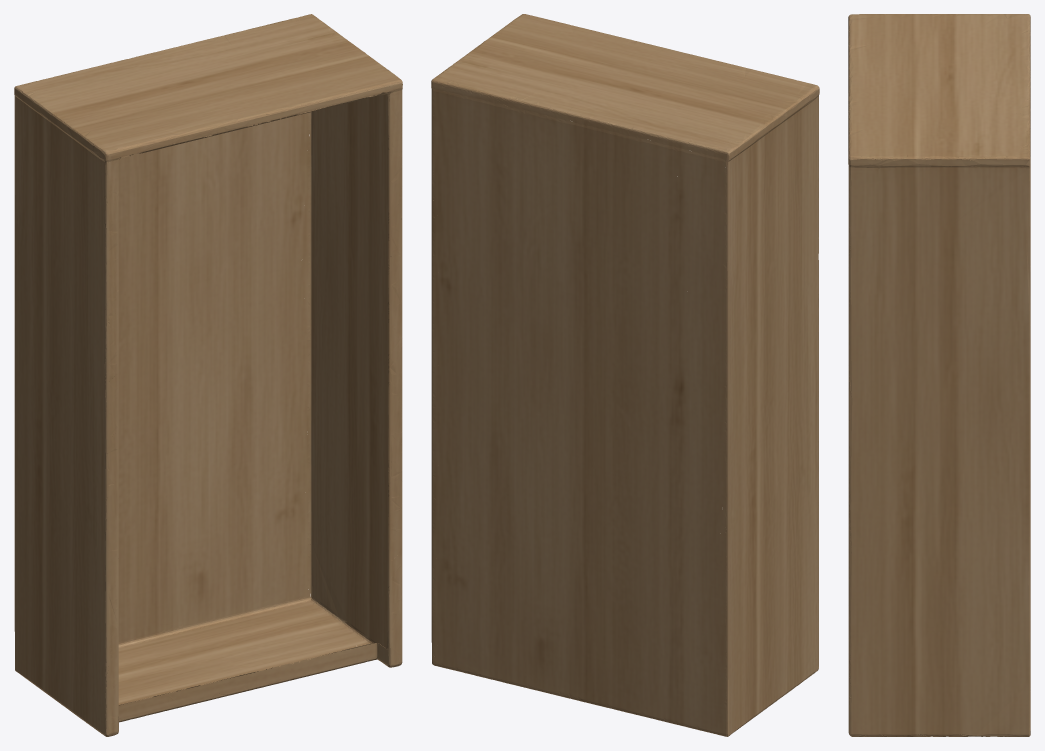
Rendered from wardrobe-body.glb.
3 renders of one model, left to right at view 1: azimuth 30°, elevation 25°; view 2: azimuth 150°, elevation 25°; view 3: azimuth 270°, elevation 25°, orthographic.
Visible parts, largest first — view 1: source_surface_0, source_surface_3, source_surface_4; view 2: source_surface_3, source_surface_0; view 3: source_surface_0.
Part boxes in pixels (bbox=[...]): source_surface_0: bbox=[14, 14, 402, 736]; source_surface_3: bbox=[118, 112, 377, 722]; source_surface_4: bbox=[119, 91, 390, 705]; source_surface_3: bbox=[432, 83, 726, 735]; source_surface_0: bbox=[431, 14, 819, 736]; source_surface_0: bbox=[848, 14, 1030, 736].
Bounding box in the file's own units: 1.07 × 2 × 0.5698.
Materials: 1 (1 with a texture image).
